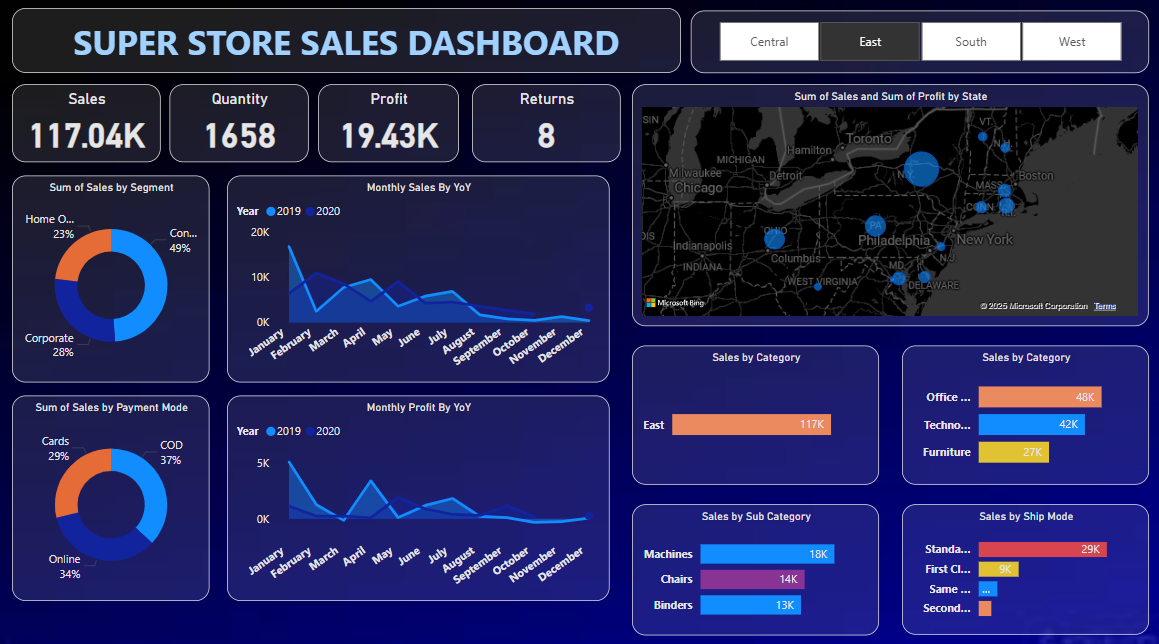

What the dashboard file says about the page in this screenshot:
{"tool":"powerbi","page":{"name":"Page 1","canvas":[1280,720],"ordinal":0},"visuals":[{"type":"clusteredBarChart","title":"Sales by Category","fields":{"Category":["SuperStore_Sales_Dataset.Category"],"Y":["Sum(SuperStore_Sales_Dataset.Sales)"]},"box":[992.9,381.4,271.4,152.9],"z":0},{"type":"clusteredBarChart","title":"Sales by Sub Category","fields":{"Category":["SuperStore_Sales_Dataset.Sub-Category"],"Y":["Sum(SuperStore_Sales_Dataset.Sales)"]},"box":[697.1,555.7,271.4,144.3],"z":1000},{"type":"clusteredBarChart","title":"Sales by Ship Mode","fields":{"Y":["Sum(SuperStore_Sales_Dataset.Sales)"],"Category":["SuperStore_Sales_Dataset.Ship Mode"]},"box":[992.9,555.7,271.4,142.9],"z":2000},{"type":"areaChart","title":"Monthly Sales By YoY","fields":{"Y":["Sum(SuperStore_Sales_Dataset.Sales)"],"Series":["SuperStore_Sales_Dataset.Order Date.Variation.Date Hierarchy.Year"],"Category":["SuperStore_Sales_Dataset.Order Date.Variation.Date Hierarchy.Month","SuperStore_Sales_Dataset.Order Date.Variation.Date Hierarchy.Day"]},"box":[252.9,194.3,420,227.1],"z":3000},{"type":"areaChart","title":"Monthly Profit By YoY","fields":{"Series":["SuperStore_Sales_Dataset.Order Date.Variation.Date Hierarchy.Year"],"Category":["SuperStore_Sales_Dataset.Order Date.Variation.Date Hierarchy.Month","SuperStore_Sales_Dataset.Order Date.Variation.Date Hierarchy.Day"],"Y":["Sum(SuperStore_Sales_Dataset.Profit)"]},"box":[252.9,435.7,420,225.7],"z":4000},{"type":"map","fields":{"Category":["SuperStore_Sales_Dataset.State"],"Size":["Sum(SuperStore_Sales_Dataset.Sales)"]},"box":[697.1,94.3,567.1,265.7],"z":5000},{"type":"donutChart","fields":{"Category":["SuperStore_Sales_Dataset.Segment"],"Y":["Sum(SuperStore_Sales_Dataset.Sales)"]},"box":[17.1,194.3,217.1,227.1],"z":6000},{"type":"donutChart","fields":{"Y":["Sum(SuperStore_Sales_Dataset.Sales)"],"Category":["SuperStore_Sales_Dataset.Payment Mode"]},"box":[17.1,435.7,217.1,225.7],"z":7000},{"type":"slicer","fields":{"Values":["SuperStore_Sales_Dataset.Region"]},"box":[761.4,14.3,502.9,68.6],"z":8000},{"type":"textbox","box":[17.1,11.4,734.3,71.4],"z":9000},{"type":"card","title":"Sales","fields":{"Values":["Sum(SuperStore_Sales_Dataset.Sales)"]},"box":[17.1,94.3,162.9,85.7],"z":9001},{"type":"card","title":"Quantity","fields":{"Values":["Sum(SuperStore_Sales_Dataset.Quantity)"]},"box":[190,94.3,152.9,85.7],"z":9002},{"type":"card","title":"Profit","fields":{"Values":["Sum(SuperStore_Sales_Dataset.Profit)"]},"box":[352.9,94.3,154.3,85.7],"z":9003},{"type":"clusteredBarChart","title":"Sales by Category","fields":{"Y":["Sum(SuperStore_Sales_Dataset.Sales)"],"Category":["SuperStore_Sales_Dataset.Region"]},"box":[697.1,381.4,271.4,152.9],"z":9004},{"type":"card","title":"Returns","fields":{"Values":["Sum(SuperStore_Sales_Dataset.Returns)"]},"box":[521.4,94.3,162.9,85.7],"z":9005}]}

Visuals, with their boxes in screenshot pixels (x1, y1, x2, y2), scaled from the page's 1280x720 canvas onto the 1159x644 screenshot:
"Sales by Category" clusteredBarChart: box=[899, 341, 1145, 478]
"Sales by Sub Category" clusteredBarChart: box=[631, 497, 877, 626]
"Sales by Ship Mode" clusteredBarChart: box=[899, 497, 1145, 625]
"Monthly Sales By YoY" areaChart: box=[229, 174, 609, 377]
"Monthly Profit By YoY" areaChart: box=[229, 390, 609, 592]
map - SuperStore_Sales_Dataset.State x Sum(SuperStore_Sales_Dataset.Sales): box=[631, 84, 1145, 322]
donutChart - SuperStore_Sales_Dataset.Segment x Sum(SuperStore_Sales_Dataset.Sales): box=[15, 174, 212, 377]
donutChart - Sum(SuperStore_Sales_Dataset.Sales) x SuperStore_Sales_Dataset.Payment Mode: box=[15, 390, 212, 592]
slicer - SuperStore_Sales_Dataset.Region: box=[689, 13, 1145, 74]
textbox: box=[15, 10, 680, 74]
"Sales" card: box=[15, 84, 163, 161]
"Quantity" card: box=[172, 84, 310, 161]
"Profit" card: box=[320, 84, 459, 161]
"Sales by Category" clusteredBarChart: box=[631, 341, 877, 478]
"Returns" card: box=[472, 84, 620, 161]
